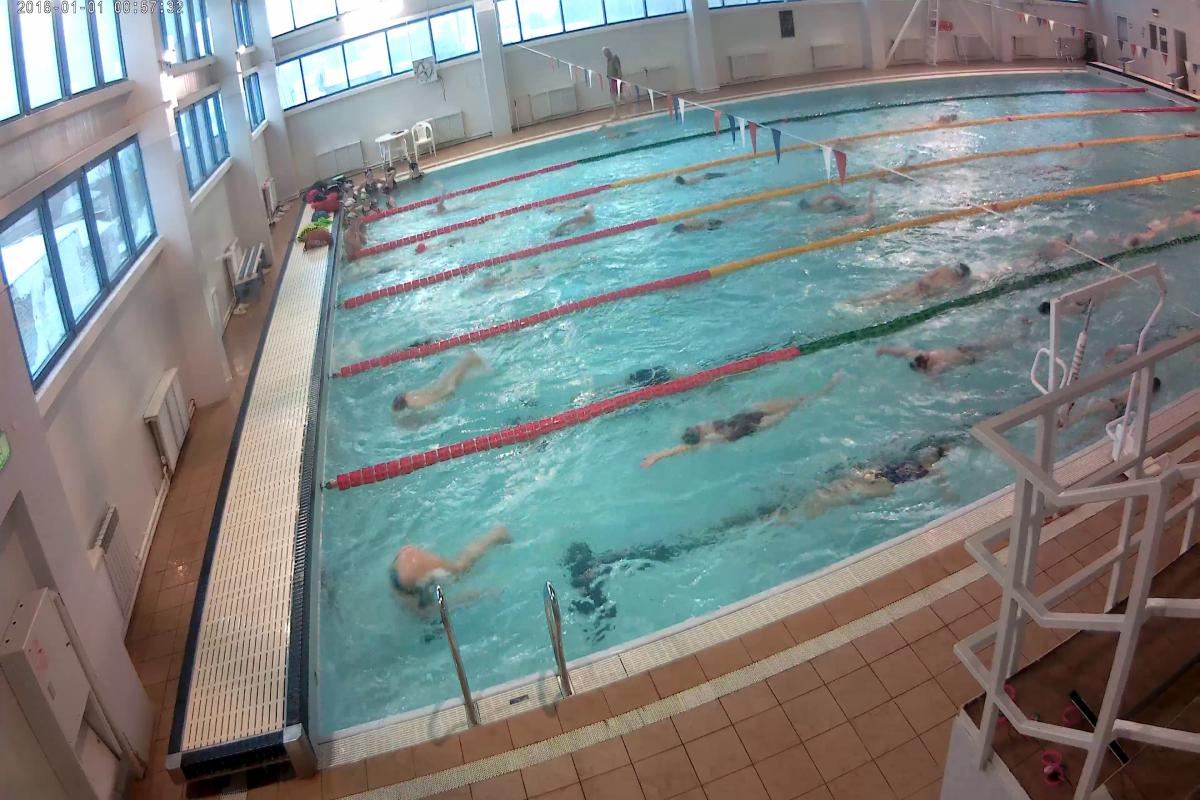swimmer: (627, 370, 852, 482), (374, 534, 510, 644), (782, 440, 951, 511), (374, 358, 499, 426), (882, 329, 1012, 381), (863, 249, 975, 308), (669, 210, 753, 239), (550, 203, 610, 238), (781, 187, 851, 213), (672, 167, 744, 190)
